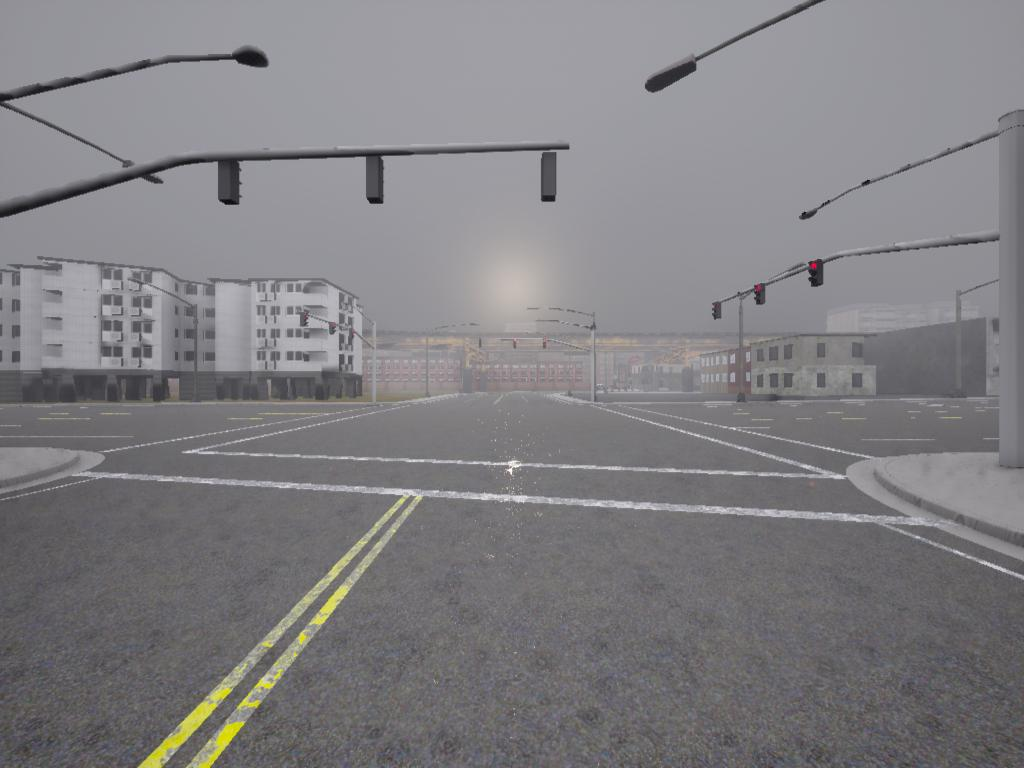traffic_light: (219, 162, 245, 208), (366, 157, 386, 208), (542, 153, 558, 205), (810, 262, 826, 288), (756, 285, 766, 305), (300, 312, 310, 331), (712, 305, 722, 322), (329, 321, 338, 338), (349, 328, 356, 342), (543, 338, 548, 352), (513, 339, 518, 350), (479, 338, 483, 348)
